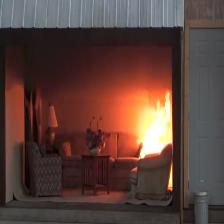fire: (140, 92, 171, 158)
